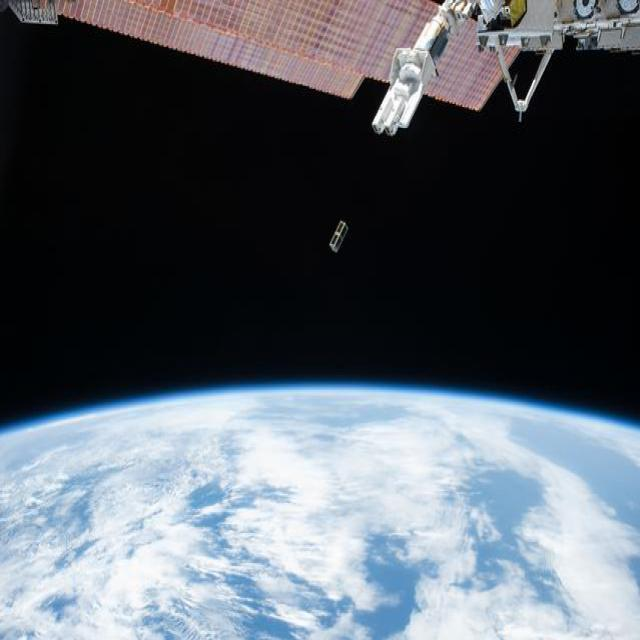medium_debris: (4, 0, 640, 133), (330, 220, 349, 253)
